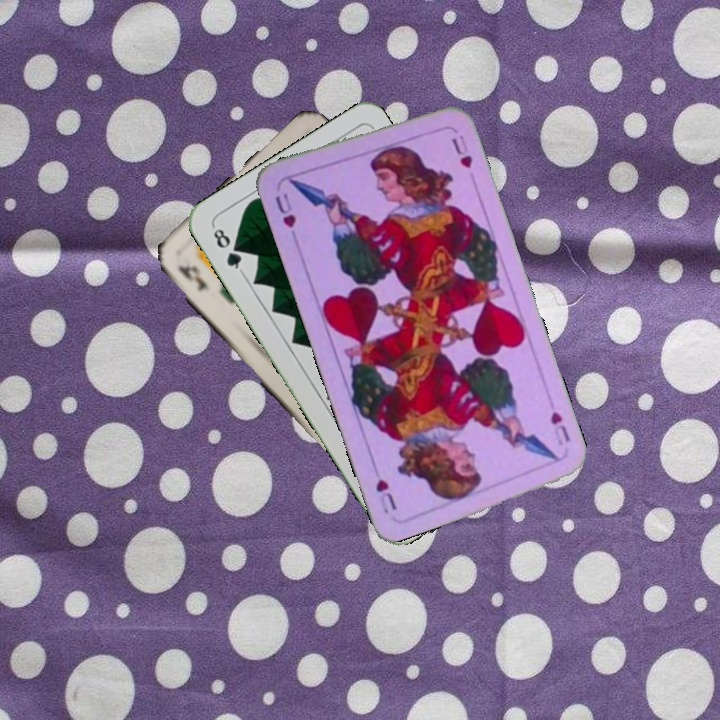EK: (173, 261, 213, 294)
G8: (209, 222, 246, 275)
HU: (271, 189, 299, 231), (546, 407, 573, 448)
